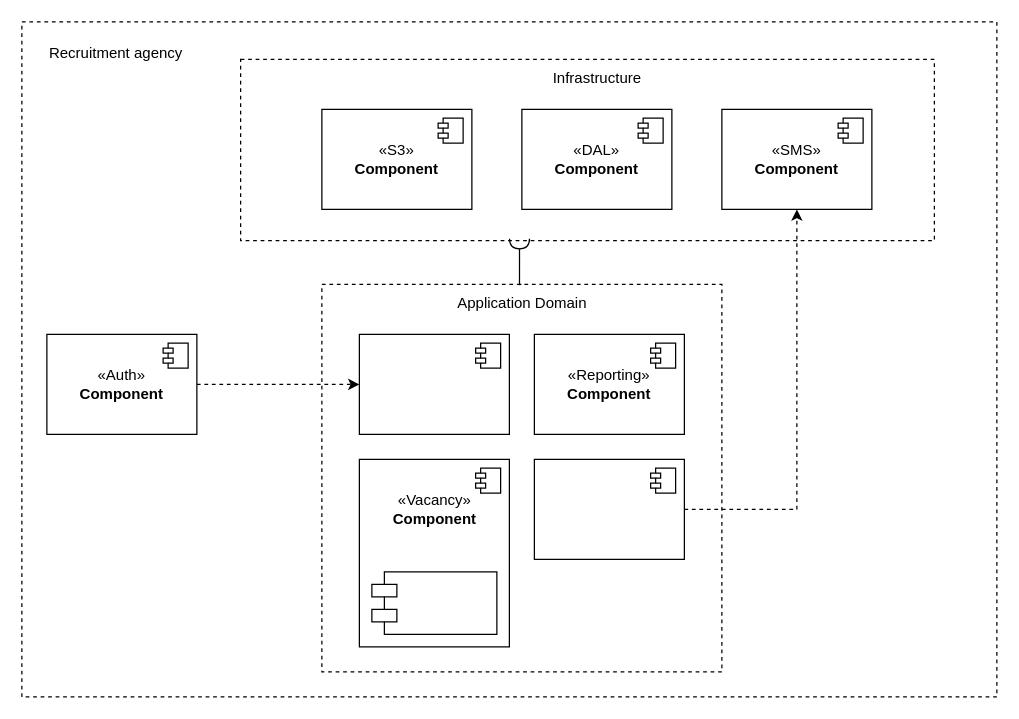
The diagram is 1019 pixels wide and 719 high, and some of its shapes have lost their labels. Here are the shapes that lost their labels. From the top down, the box of each, then its label:
(358, 333, 509, 434): «User Management» Component
(533, 458, 684, 559): «Application&Offer» Component
(371, 571, 497, 634): Financial Module
